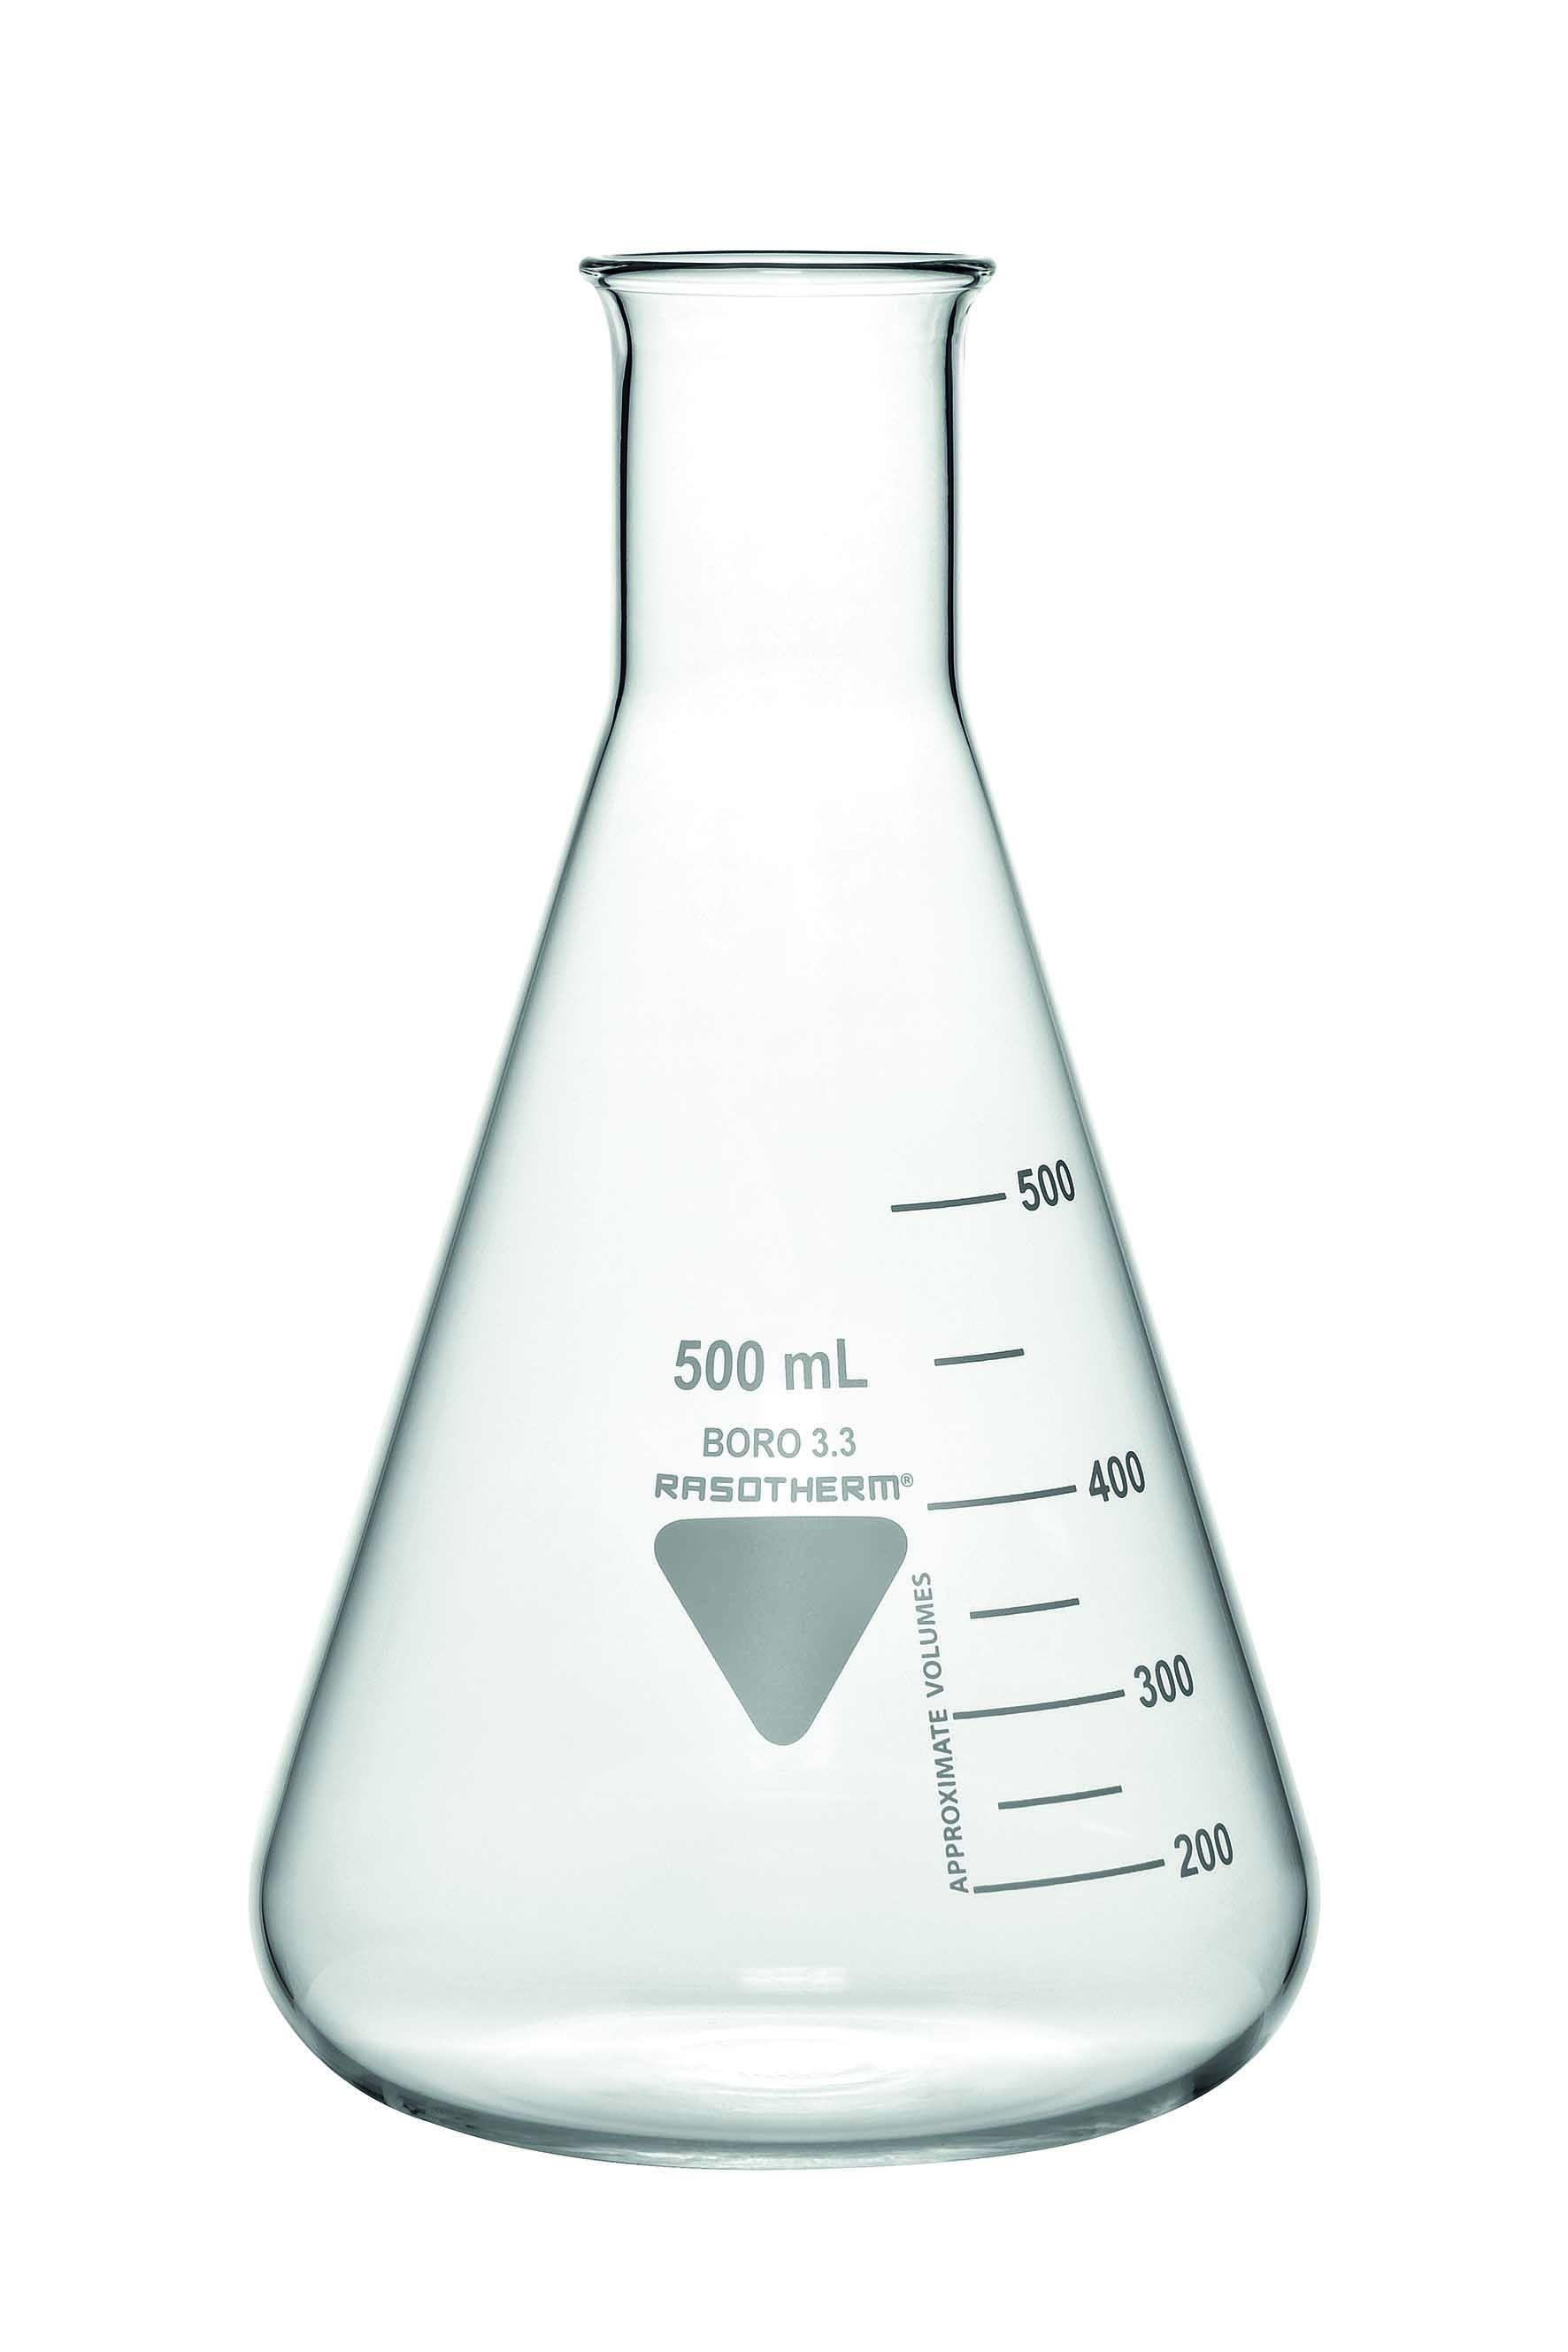Titrarion: (236, 182, 1344, 2135)
